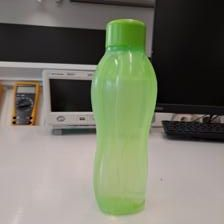bottle: (87, 20, 158, 218)
